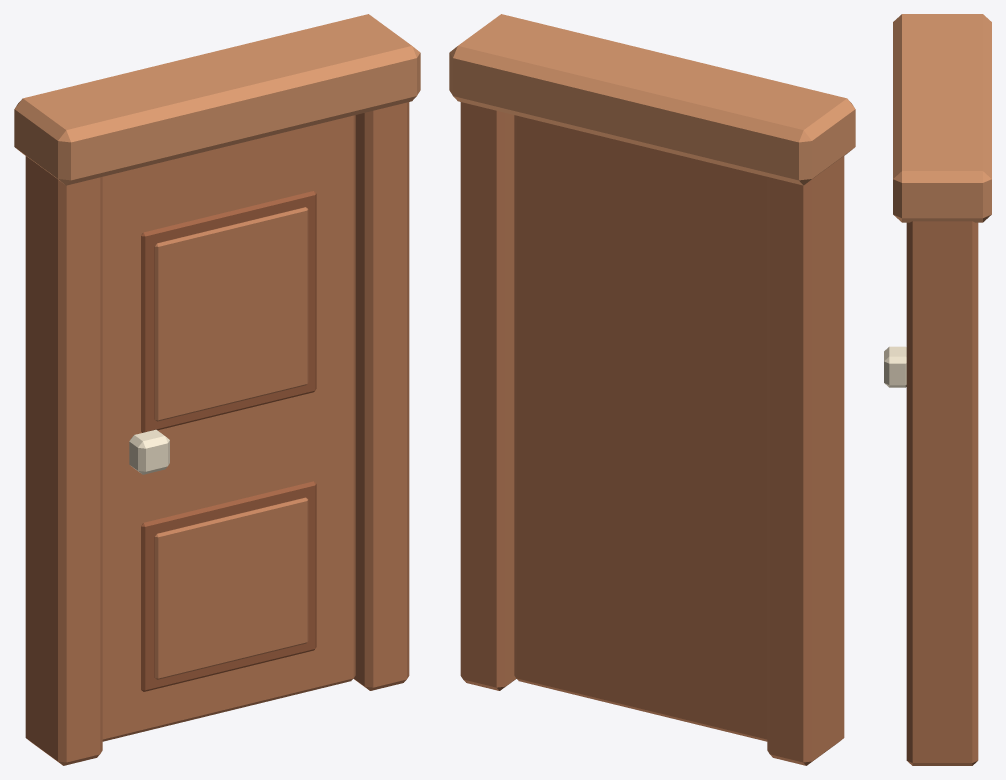
The model's file is _Door.fbx.
3 views of the same model, side by side, from view 1: azimuth 30°, elevation 25°; view 2: azimuth 150°, elevation 25°; view 3: azimuth 270°, elevation 25° (orthographic). The views are drawn at different scales.
Visible parts, largest first — view 1: 09_Door / Door slab, 09_Door / Jamb, 09_Door / Lintel, 09_Door / Jamb.001, 09_Door / Panel center.001, 09_Door / Panel center, 09_Door / Inset panel.001, 09_Door / Inset panel, 09_Door / Square handle; view 2: 09_Door / Door slab, 09_Door / Jamb, 09_Door / Lintel, 09_Door / Jamb.001; view 3: 09_Door / Jamb.001, 09_Door / Lintel, 09_Door / Square handle.
Boxes of the visible parts, box(x1,y1,x2,y2) form: 09_Door / Door slab: box(102, 115, 355, 741); 09_Door / Jamb: box(25, 156, 102, 765); 09_Door / Lintel: box(14, 14, 420, 185); 09_Door / Jamb.001: box(353, 102, 409, 690); 09_Door / Panel center.001: box(154, 207, 308, 421); 09_Door / Panel center: box(154, 497, 308, 679); 09_Door / Inset panel.001: box(141, 191, 316, 432); 09_Door / Inset panel: box(141, 481, 316, 691); 09_Door / Square handle: box(129, 429, 169, 474); 09_Door / Door slab: box(514, 115, 767, 741); 09_Door / Jamb: box(767, 156, 844, 765); 09_Door / Lintel: box(449, 14, 855, 185); 09_Door / Jamb.001: box(460, 102, 516, 690); 09_Door / Jamb.001: box(906, 221, 978, 765); 09_Door / Lintel: box(893, 14, 991, 222); 09_Door / Square handle: box(884, 346, 906, 387).
Bounding box in the file's own units: 130 × 219 × 36.
